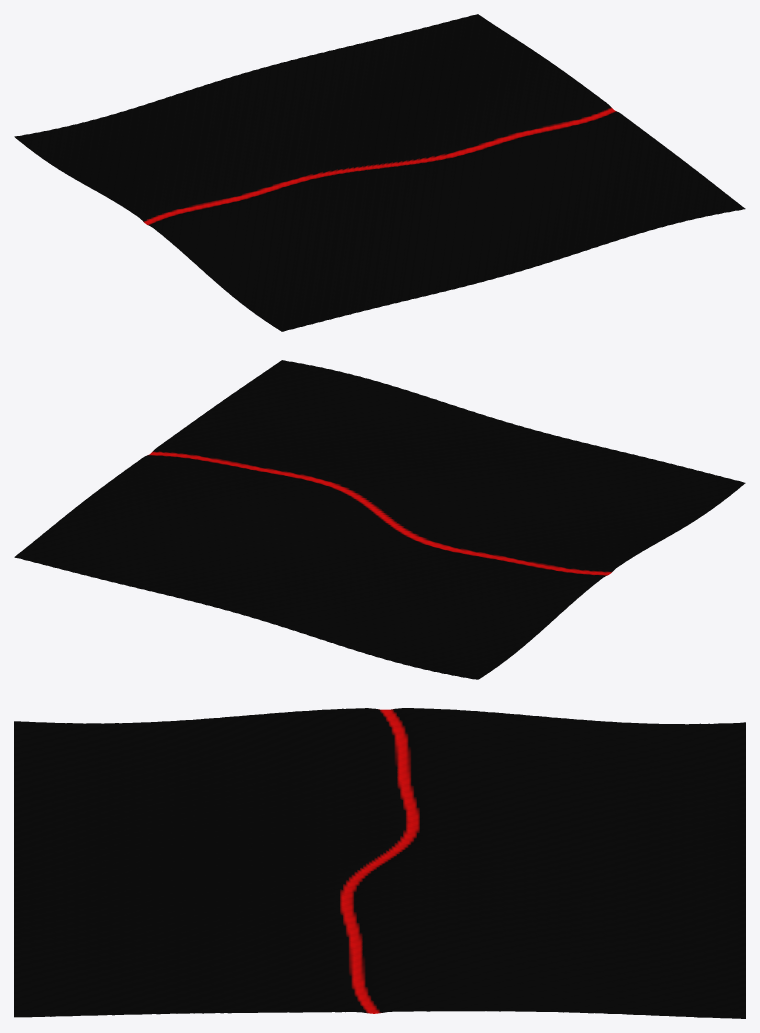
The model's file is forest_terrain.glb.
3 renders of one model, top to bottom at view 1: azimuth 30°, elevation 25°; view 2: azimuth 150°, elevation 25°; view 3: azimuth 270°, elevation 25°, orthographic. The views are drawn at different scales.
Parts seen in each view (by area): view 1: forest_terrain; view 2: forest_terrain; view 3: forest_terrain.
Boxes of the visible parts, <box> form: forest_terrain: <box>14,14,745,331</box>; forest_terrain: <box>14,360,745,679</box>; forest_terrain: <box>14,708,745,1018</box>.
Size of the model in its own units: 256 by 12.16 by 256.
